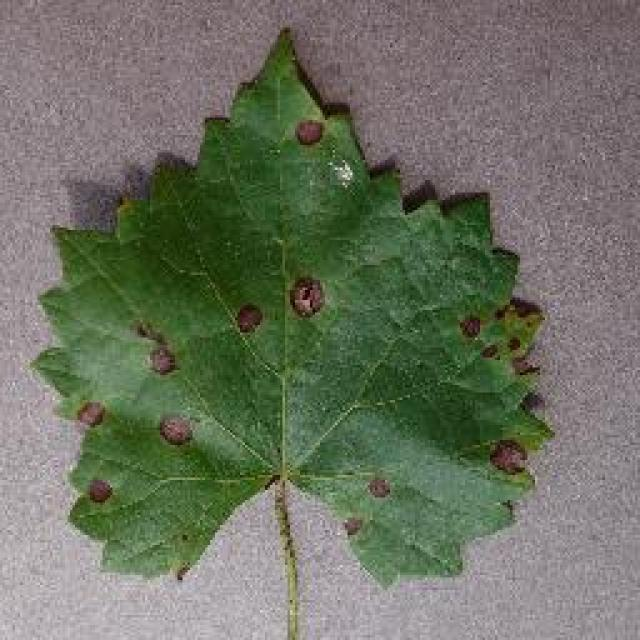Grape___Black_rot: (20, 20, 565, 599)
